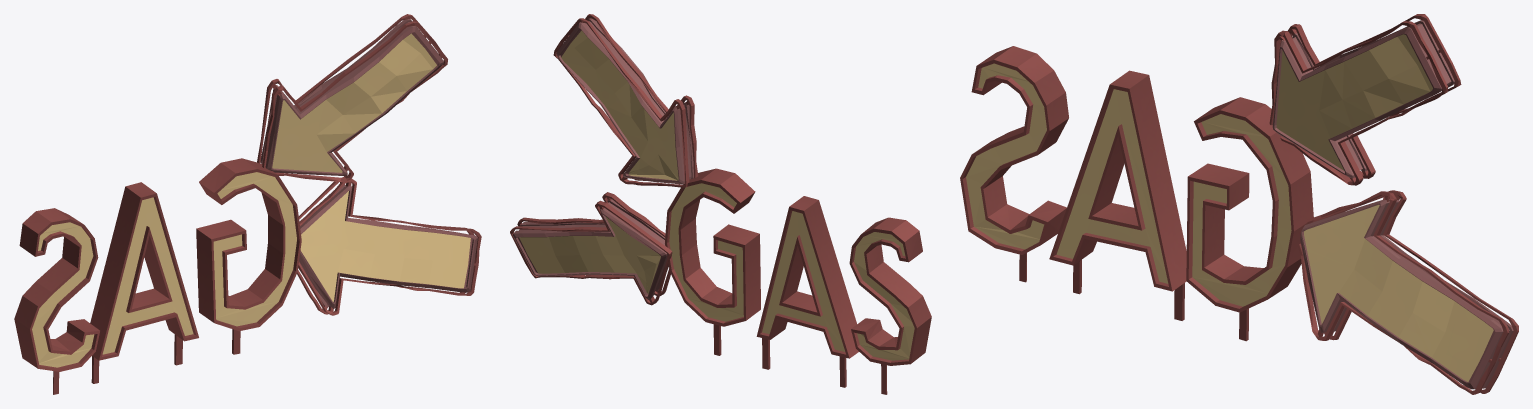
The model's file is gas_banner_1.obj.
3 renders of one model, left to right at view 1: azimuth 30°, elevation 25°; view 2: azimuth 150°, elevation 25°; view 3: azimuth 330°, elevation 25°, orthographic. The views are drawn at different scales.
Visible parts, largest first — view 1: gas_text_Mesh, gas_arrow_1_Mesh, gas_arrow_2_Mesh, gas_arrow_2_neon_Mesh, gas_arrow_1_neon_Mesh; view 2: gas_text_Mesh, gas_arrow_1_Mesh, gas_arrow_2_Mesh, gas_arrow_2_neon_Mesh, gas_arrow_1_neon_Mesh; view 3: gas_text_Mesh, gas_arrow_2_Mesh, gas_arrow_1_Mesh, gas_arrow_1_neon_Mesh, gas_arrow_2_neon_Mesh.
Part boxes in pixels (box(x1,y1,x2,y2)): gas_text_Mesh: box(14, 158, 301, 394); gas_arrow_1_Mesh: box(260, 19, 444, 175); gas_arrow_2_Mesh: box(298, 184, 477, 308); gas_arrow_2_neon_Mesh: box(257, 14, 447, 182); gas_arrow_1_neon_Mesh: box(297, 179, 481, 315); gas_text_Mesh: box(665, 168, 931, 394); gas_arrow_1_Mesh: box(556, 18, 693, 184); gas_arrow_2_Mesh: box(512, 199, 668, 300); gas_arrow_2_neon_Mesh: box(553, 14, 698, 187); gas_arrow_1_neon_Mesh: box(510, 192, 672, 305); gas_text_Mesh: box(960, 46, 1313, 341); gas_arrow_2_Mesh: box(1300, 200, 1513, 389); gas_arrow_1_Mesh: box(1272, 20, 1454, 178); gas_arrow_1_neon_Mesh: box(1298, 190, 1518, 394); gas_arrow_2_neon_Mesh: box(1269, 14, 1461, 185).
Bounding box in the file's own units: 6.02 × 3.99 × 0.8372.
